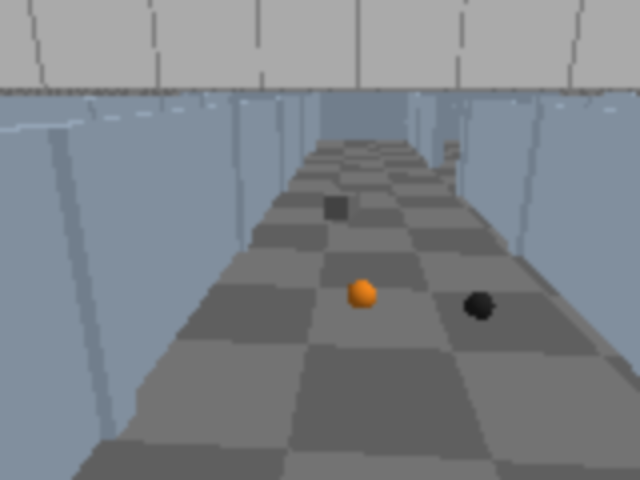obstacle: (323, 190, 359, 221)
puck: (458, 285, 502, 326), (342, 274, 382, 317)
